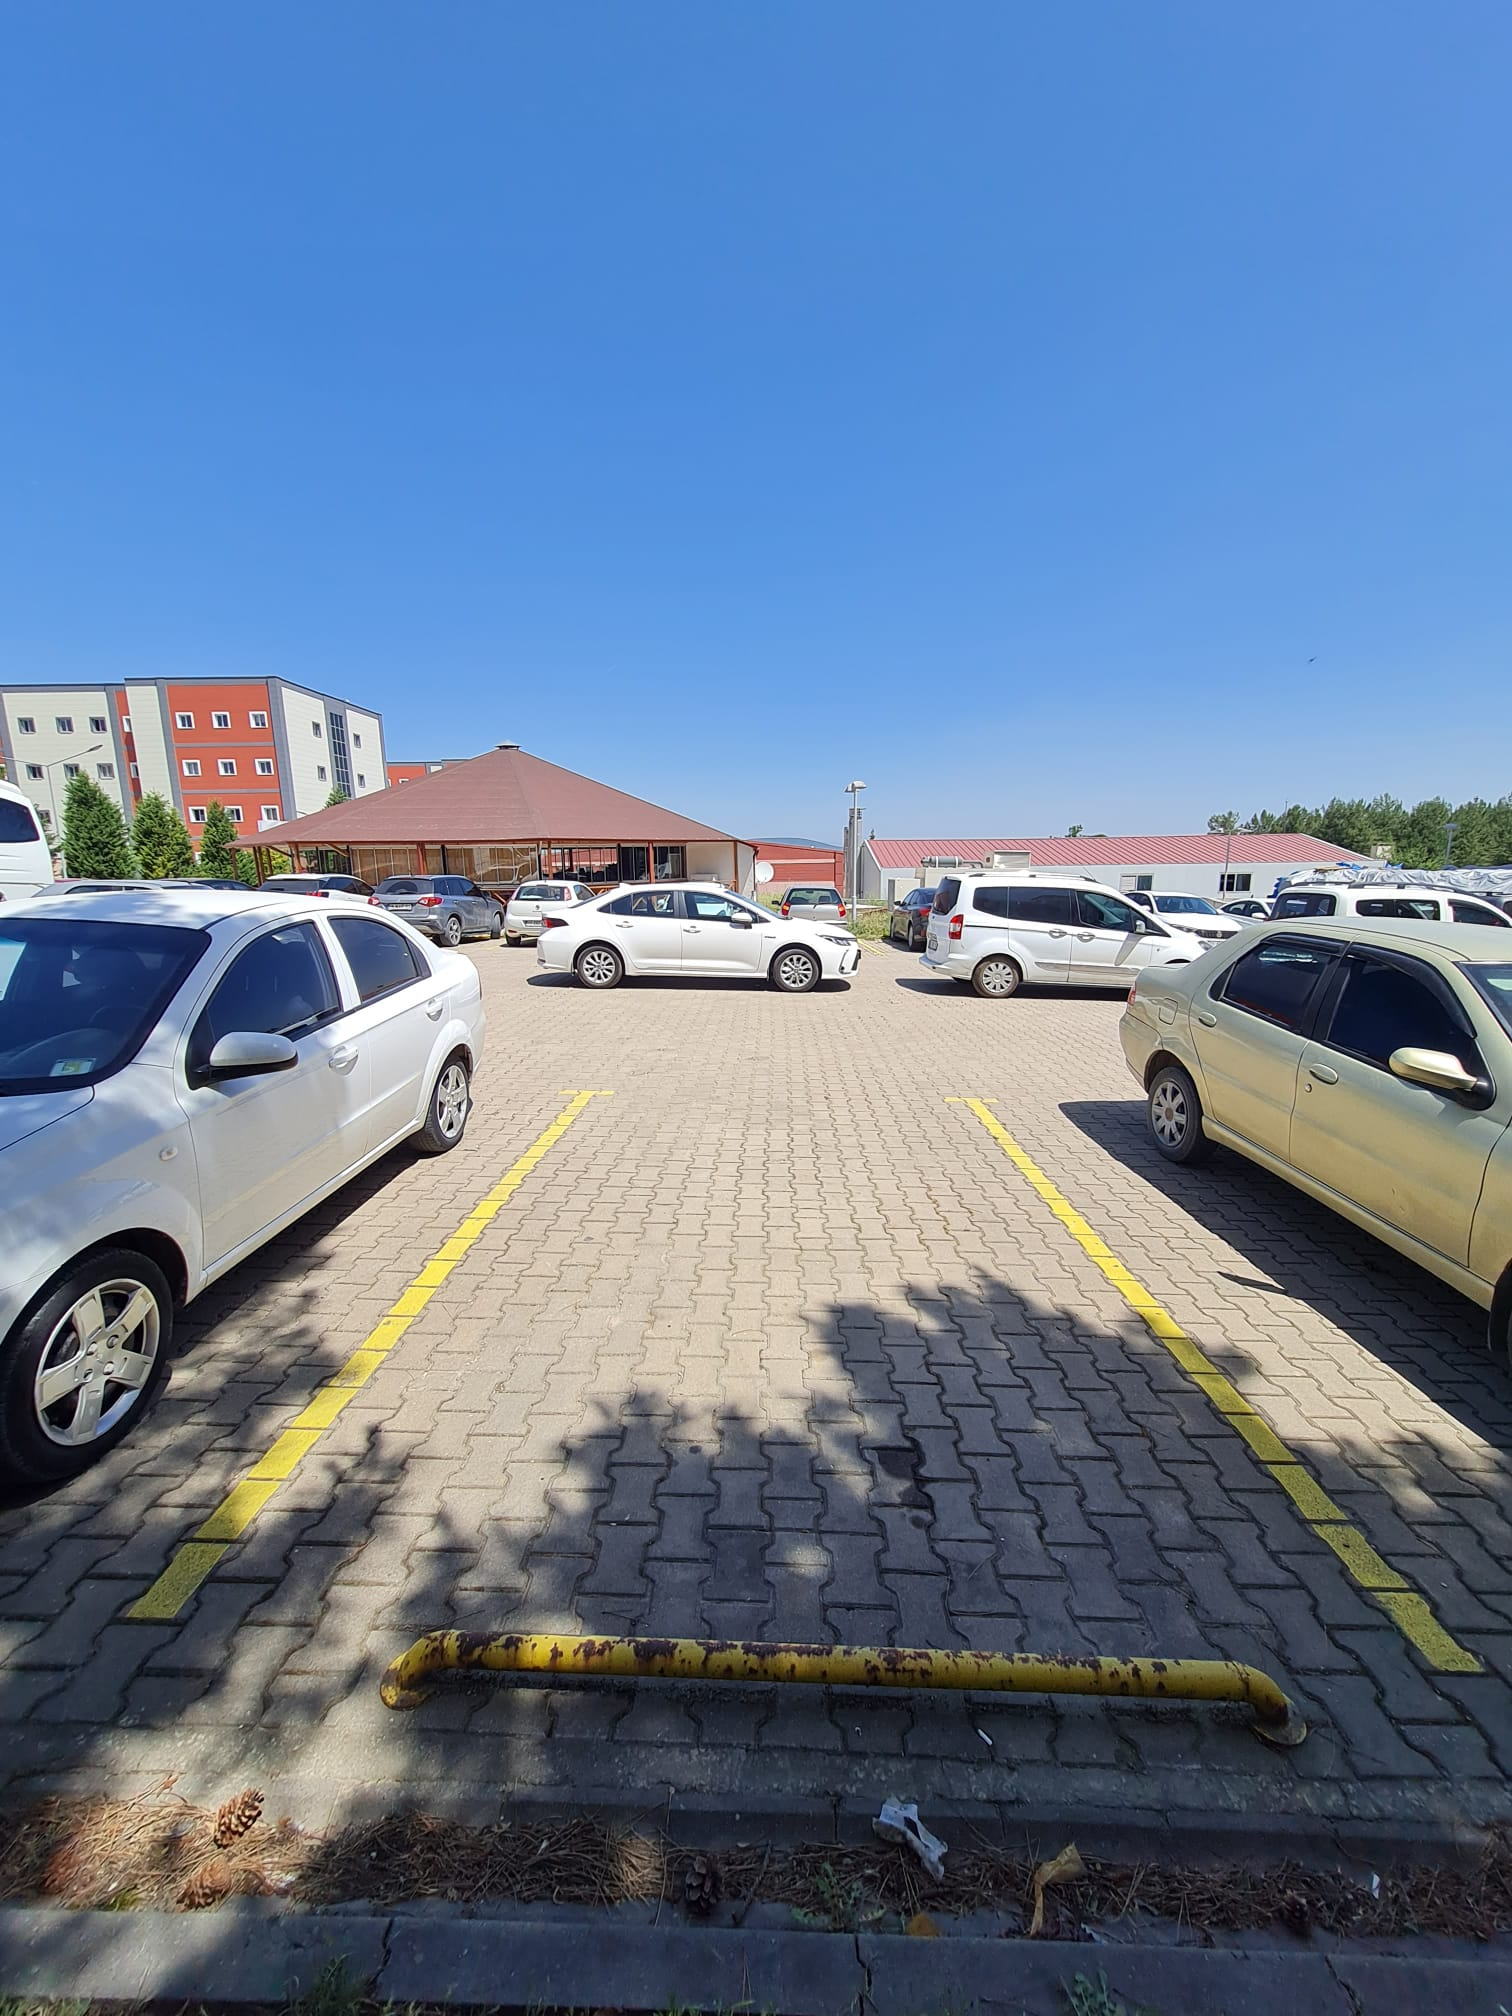Bos: (239, 1061, 1388, 1688)
